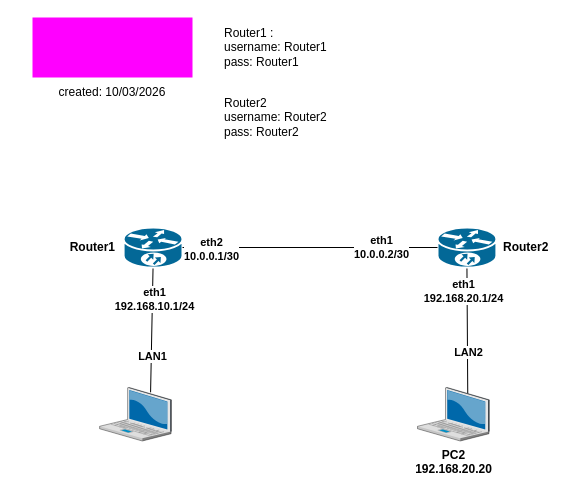
This 565x494 diagram has some shape labels left out. Here are the shapes that lost their labels. From the top down, the box of each, then its label:
(32, 17, 192, 77): Static-routing-basic
(99, 387, 171, 440): PC1 192.168.10.10
